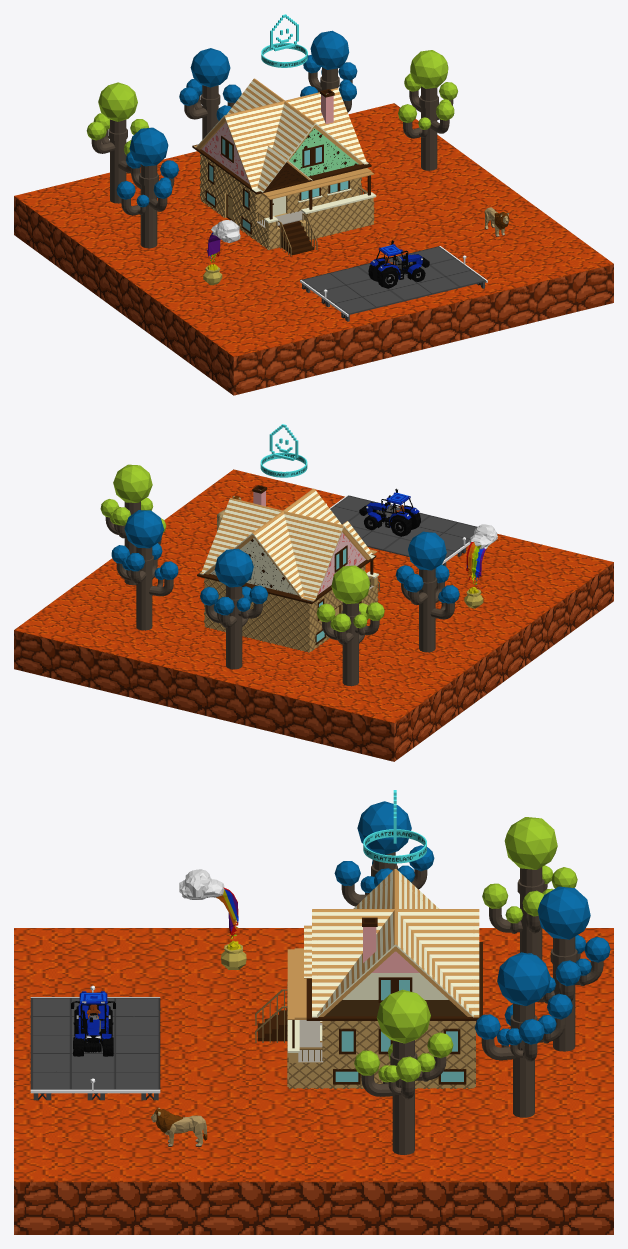
3 renders of one model, top to bottom at view 1: azimuth 30°, elevation 25°; view 2: azimuth 150°, elevation 25°; view 3: azimuth 270°, elevation 25°, orthographic. The views are drawn at different scales.
Parts seen in each view (by area): view 1: Cube.001, Cube.1102, VEHICLES_TRACTOR, OBJRANDOM_RAINBOW, TYPE_PREMIUM; view 2: Cube.001, Cube.1102, VEHICLES_TRACTOR, OBJRANDOM_RAINBOW, TYPE_PREMIUM; view 3: Cube.001, Cube.1102, VEHICLES_TRACTOR, OBJRANDOM_RAINBOW, TYPE_PREMIUM, ANIMAL_LEON.
Boxes of the visible parts, <box> form: Cube.001: <box>14,30,613,395</box>; Cube.1102: <box>192,78,376,256</box>; VEHICLES_TRACTOR: <box>368,240,429,288</box>; OBJRANDOM_RAINBOW: <box>203,220,240,285</box>; TYPE_PREMIUM: <box>261,14,307,67</box>; Cube.001: <box>14,464,613,761</box>; Cube.1102: <box>197,485,379,652</box>; VEHICLES_TRACTOR: <box>359,488,420,536</box>; OBJRANDOM_RAINBOW: <box>464,524,497,608</box>; TYPE_PREMIUM: <box>260,424,307,477</box>; Cube.001: <box>14,801,613,1234</box>; Cube.1102: <box>255,869,482,1088</box>; VEHICLES_TRACTOR: <box>71,991,115,1056</box>; OBJRANDOM_RAINBOW: <box>179,869,246,969</box>; TYPE_PREMIUM: <box>363,790,426,863</box>; ANIMAL_LEON: <box>151,1108,207,1147</box>.
Bounding box in the file's own units: 4000 × 2433 × 4000.
38 materials, 7 textured.
